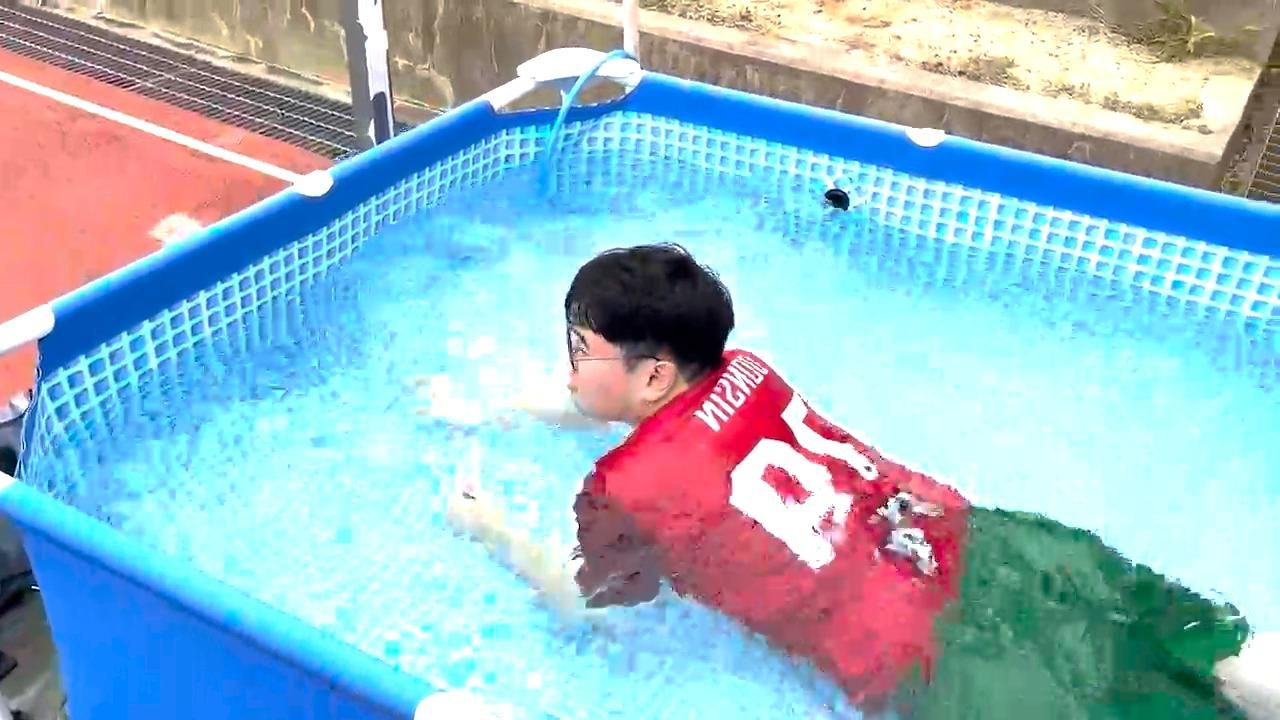Swimming: (389, 191, 1167, 720)
